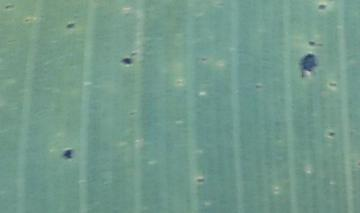tarspot: (301, 53, 316, 80), (63, 148, 74, 159), (120, 57, 133, 66), (317, 2, 326, 11), (307, 38, 315, 47), (327, 130, 336, 138), (327, 80, 336, 88), (196, 176, 205, 184), (4, 3, 14, 10), (66, 21, 75, 28), (129, 110, 137, 116), (316, 42, 323, 48), (256, 83, 262, 89), (201, 57, 207, 63), (24, 18, 31, 23)
